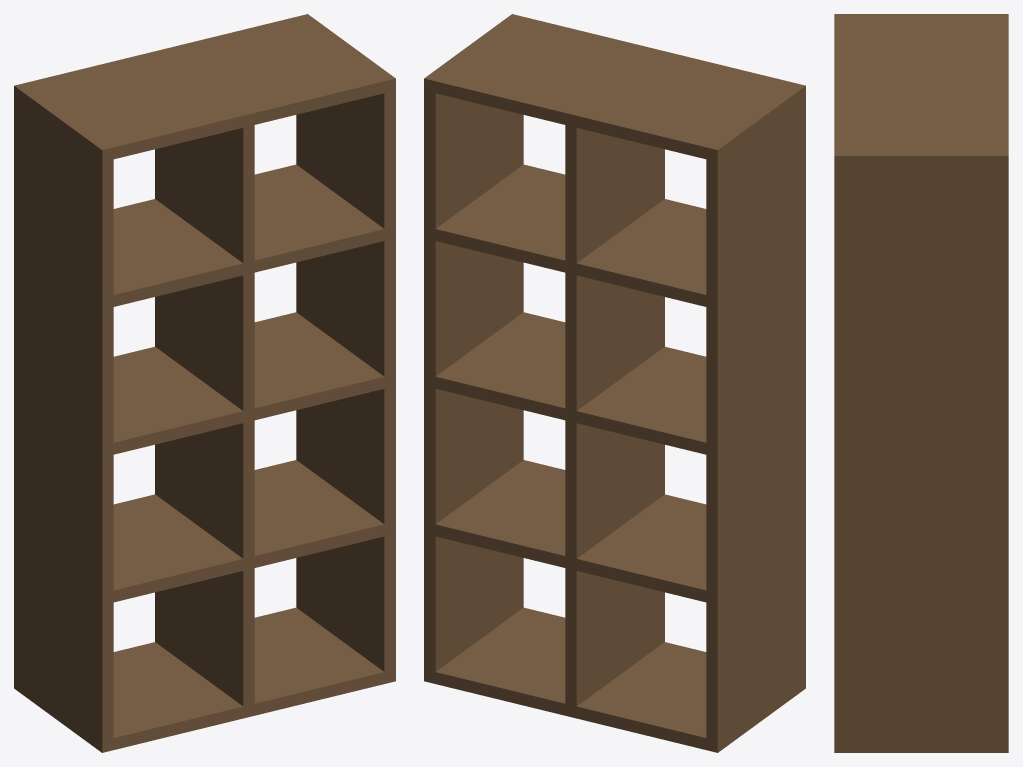
The model's file is Accesories_Cubes_8_empty.glb.
3 views of the same model, side by side, from view 1: azimuth 30°, elevation 25°; view 2: azimuth 150°, elevation 25°; view 3: azimuth 270°, elevation 25° (orthographic).
Parts seen in each view (by area): view 1: Accesories_Cubes_8_empty; view 2: Accesories_Cubes_8_empty; view 3: Accesories_Cubes_8_empty.
Boxes of the visible parts, x1,y1,x2,y2 form: Accesories_Cubes_8_empty: (14,14,395,752); Accesories_Cubes_8_empty: (424,14,805,752); Accesories_Cubes_8_empty: (834,14,1008,752).
Size of the model in its own units: 0.7949 by 1.56 by 0.413.
Materials: 1 (1 with a texture image).
